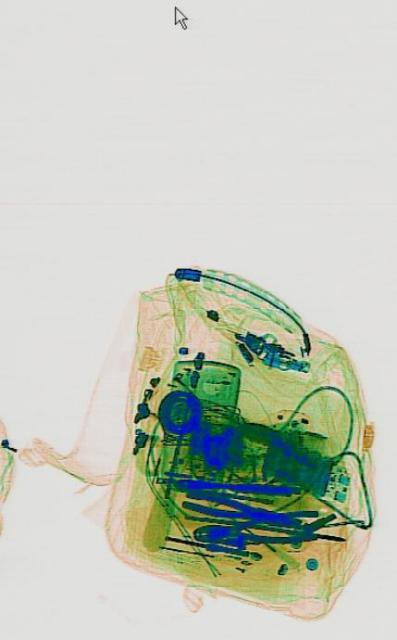Pliers: (180, 484, 301, 532), (192, 506, 317, 550)
